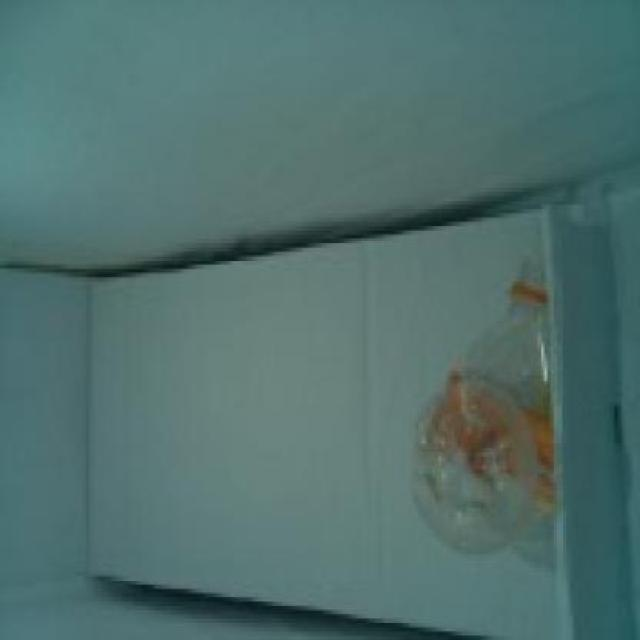Pet_Bottle: (416, 268, 570, 570)
